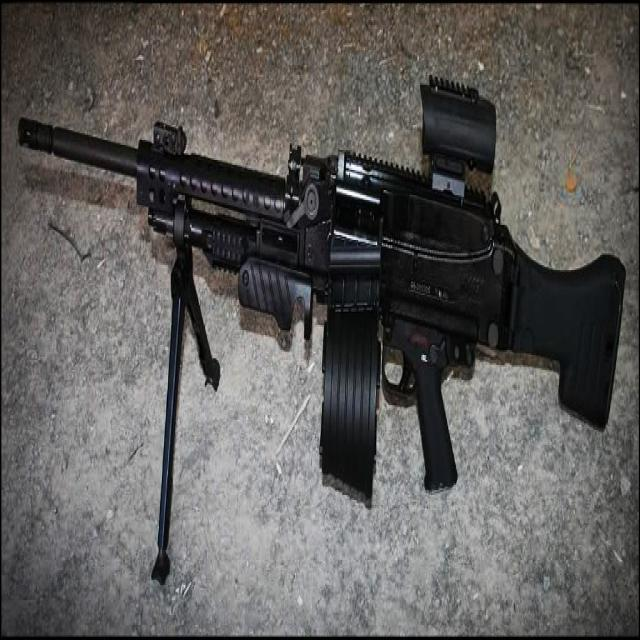firearm: (19, 81, 627, 498)
